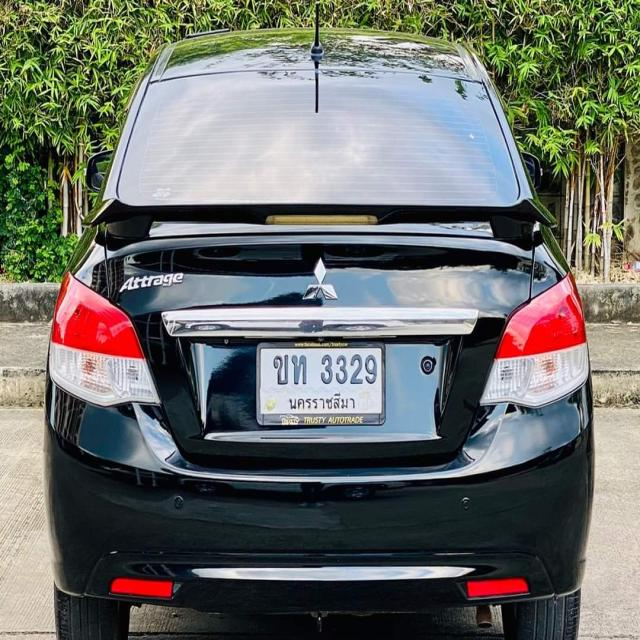license_plate: (256, 336, 389, 427)
